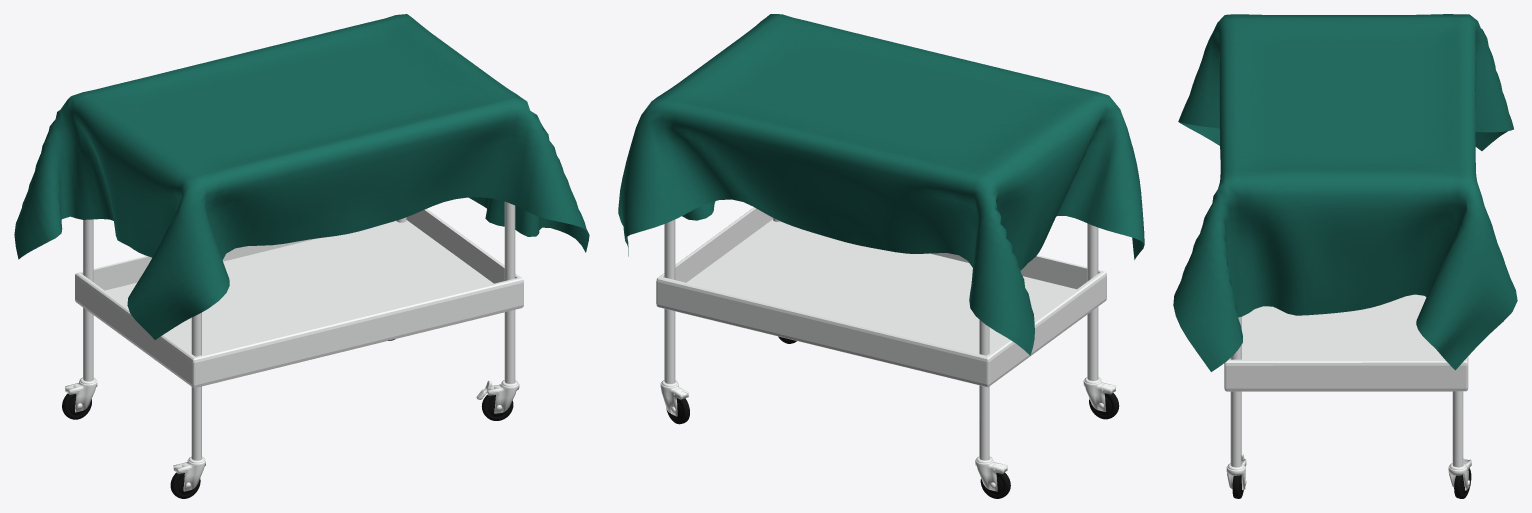
File: ban.fbx
3 views of the same model, side by side, from view 1: azimuth 30°, elevation 25°; view 2: azimuth 150°, elevation 25°; view 3: azimuth 270°, elevation 25° (orthographic). The views are drawn at different scales.
Parts seen in each view (by area): view 1: ban1; view 2: ban1; view 3: ban1.
Boxes of the visible parts, x1,y1,x2,y2 form: ban1: (14,14,589,498); ban1: (618,14,1144,498); ban1: (1173,14,1517,498).
Size of the model in its own units: 52.45 by 36.89 by 34.98.
Materials: 1 (1 with a texture image).
